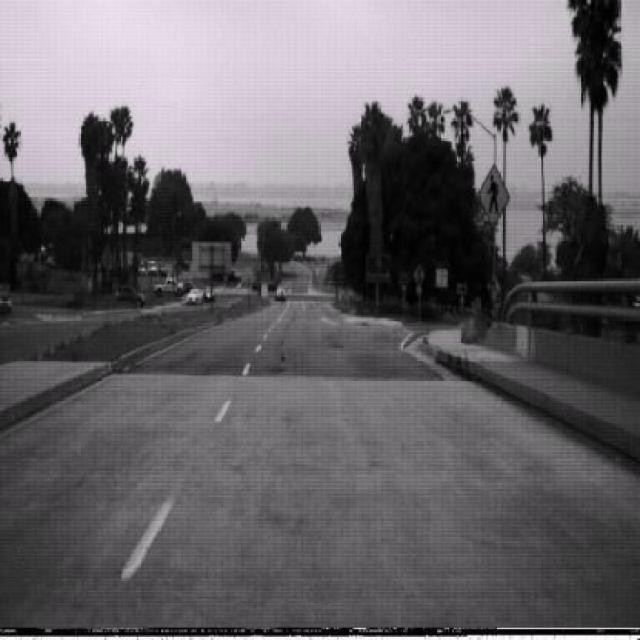pedestrianCrossing: (475, 162, 510, 228)
